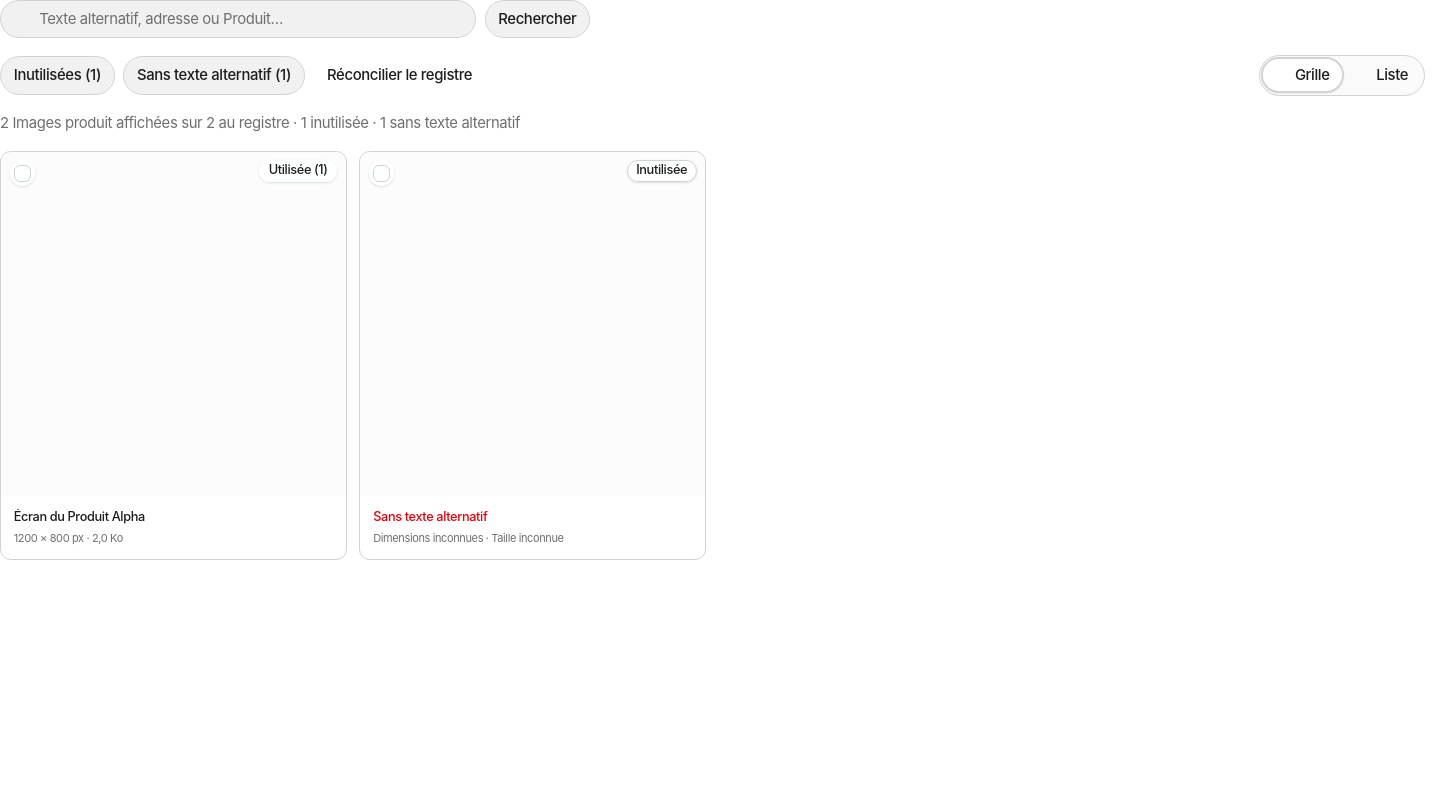
Test: MediasBibliotheque › copie l'adresse publique et annonce la copie
Click the button named "Ouvrir le détail de l" next to "Utilisée (1)". click: (173, 324)
box: [1,152,346,496]
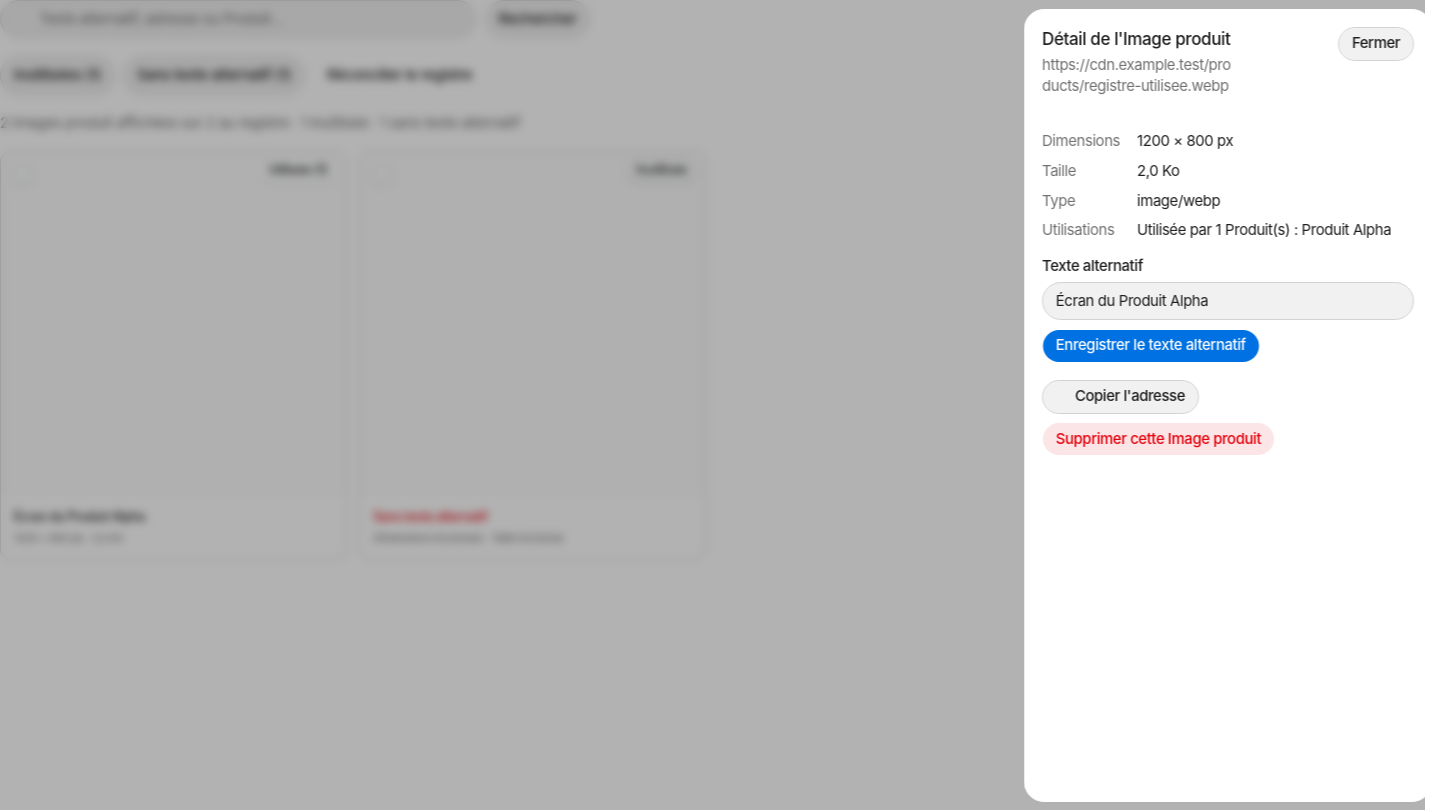
Click the button "Copier l'adresse". click: (1120, 396)
box: [1042,379,1198,413]
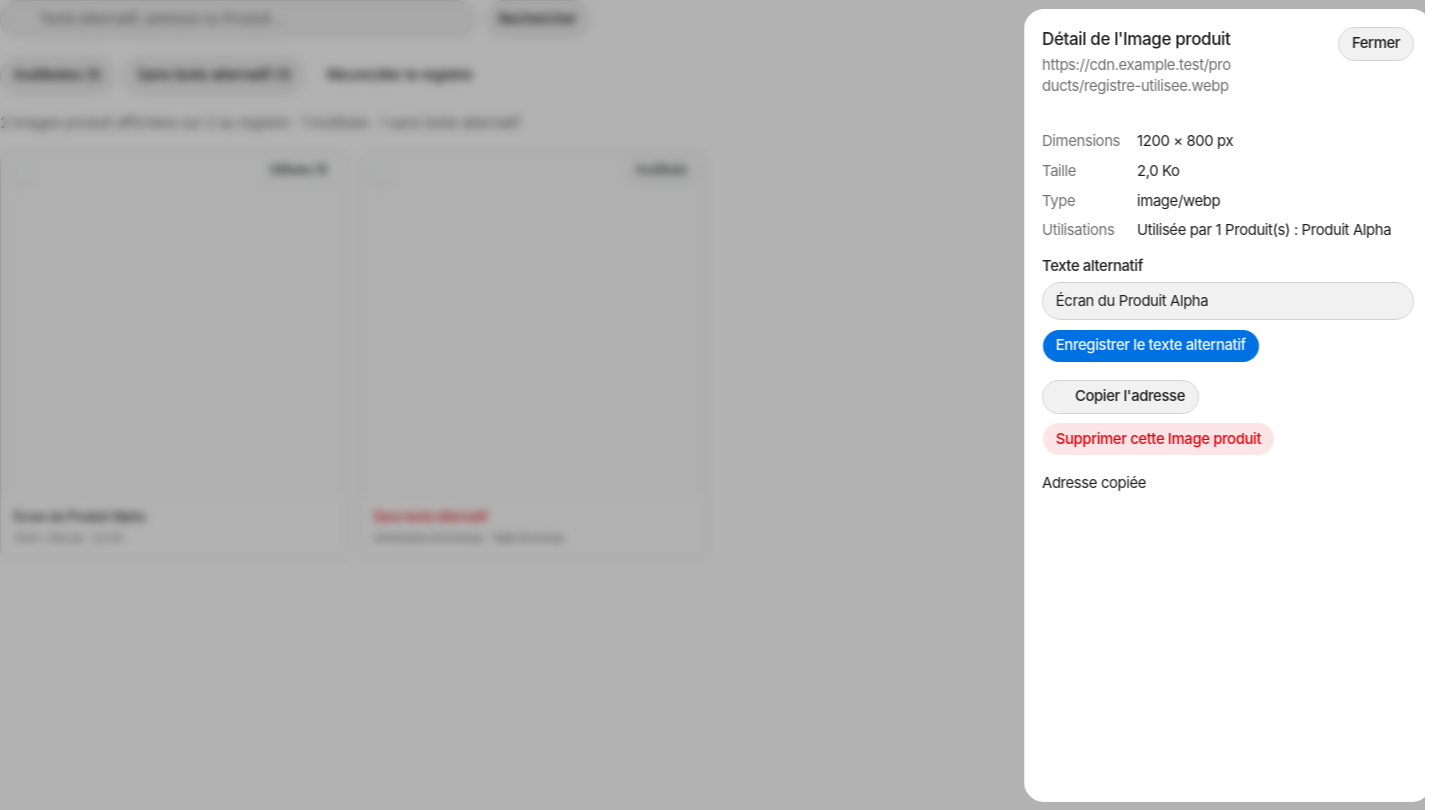
Expected: the dialog shows "Adresse copiée", [1042,474,1146,492]
